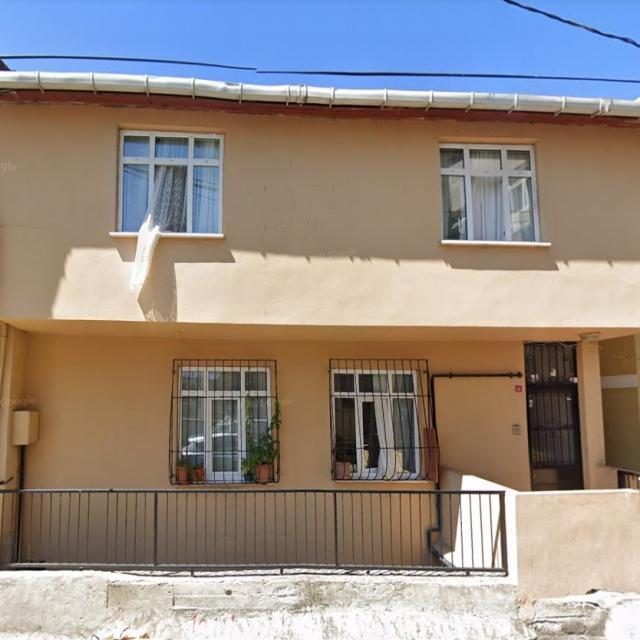Building: (0, 68, 640, 568)
